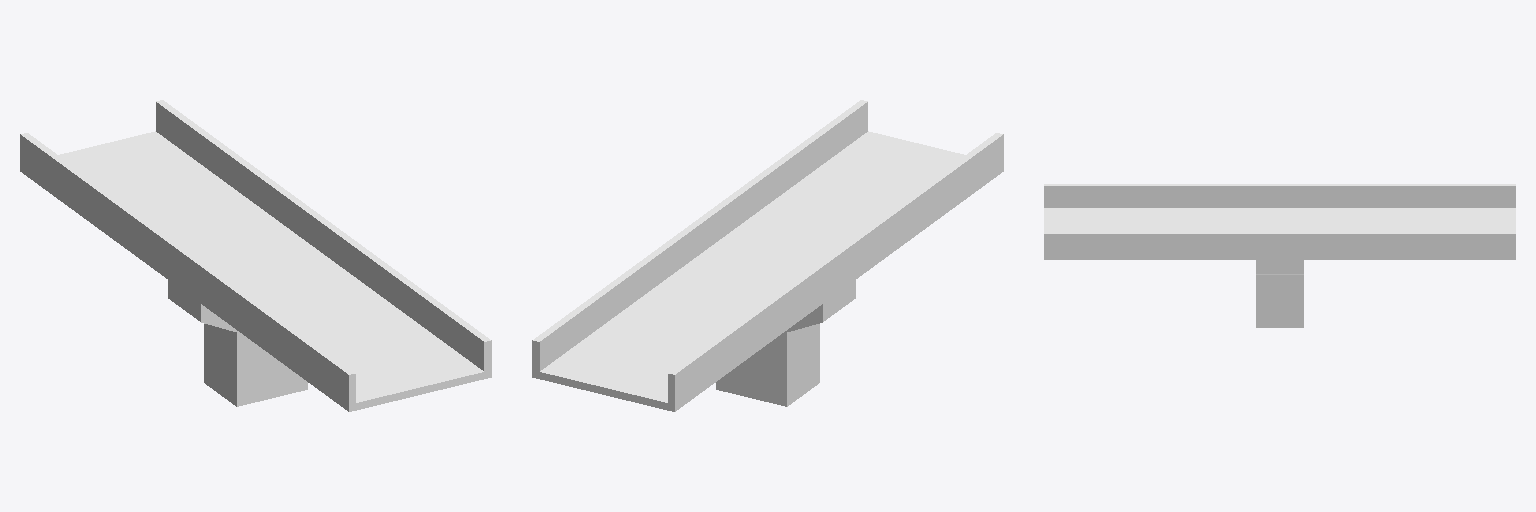
The robot description file, URDF, robot "test_robot":
<robot name="test_robot">
    <link name="base_link"/>

    <joint name="body_joint" type="fixed">
        <parent link="base_link"/>
        <child  link="girder_link"/>
    </joint>
    <link name="girder_link">
        <visual>
            <geometry>
                <mesh filename="package://uav_sim/stl/girder_mod.stl" />
            </geometry>
            <origin xyz="0 0 0" rpy="0 0 0"/>
            <material name="red">
                <color rgba="1.0 1.0 1.0 2.0" />
            </material>
        </visual>
    </link>
</robot>

--- What the picture shows (computed from the rendered views, not written in the file) ---
3 views of the same robot in one strip: view 1: azimuth 30°, elevation 25°; view 2: azimuth 150°, elevation 25°; view 3: azimuth 270°, elevation 25° (orthographic).
Model test_robot with 2 links and 1 joints (1 fixed), rooted at base_link, posed every joint at zero.
Visible links, largest first — view 1: girder_link; view 2: girder_link; view 3: girder_link.
Link boxes in pixels (x1,y1,x2,y2): girder_link: [20, 100, 491, 411]; girder_link: [532, 100, 1003, 411]; girder_link: [1044, 184, 1515, 327].
Bounding box of the posed robot: 10 × 40 × 10 m (x, y, z).
Meshes: 1 distinct files referenced, 1 mesh visuals loaded (1 binary STL).